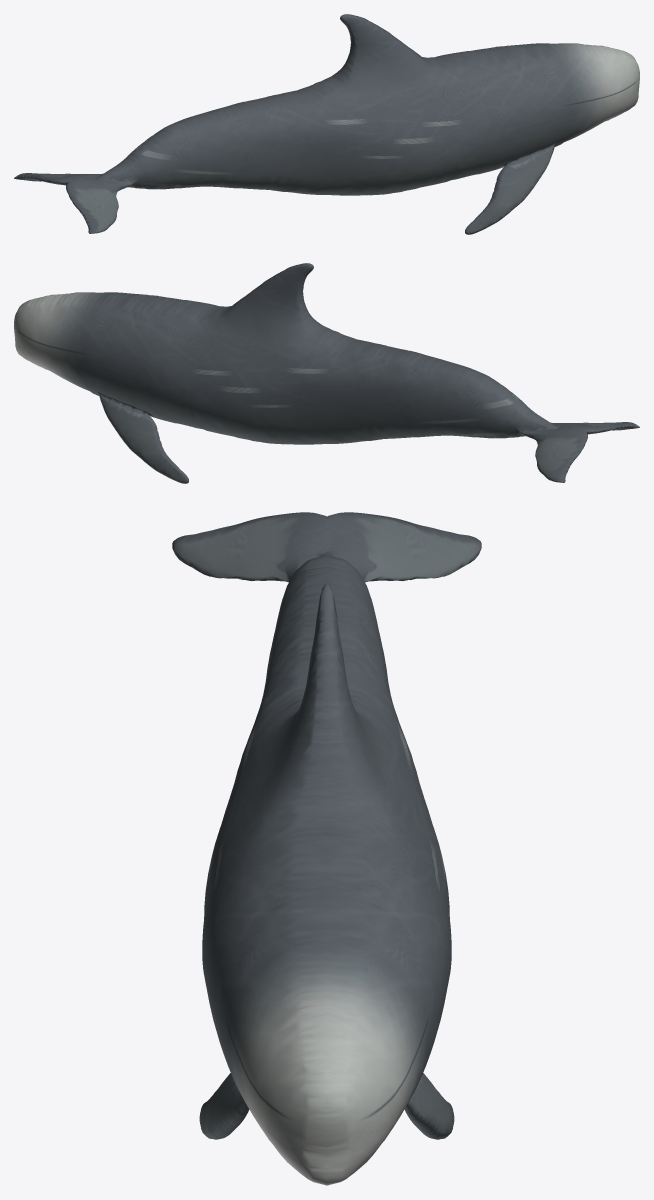
The model's file is model-cetacean-grampus-griseus-v0677.glb.
3 renders of one model, top to bottom at view 1: azimuth 30°, elevation 25°; view 2: azimuth 150°, elevation 25°; view 3: azimuth 270°, elevation 25°, orthographic. The views are drawn at different scales.
Parts seen in each view (by area): view 1: grampus-griseus source-derived exterior; view 2: grampus-griseus source-derived exterior; view 3: grampus-griseus source-derived exterior.
Boxes of the visible parts, x1=… form: grampus-griseus source-derived exterior: x1=14, y1=14, x2=639, y2=234; grampus-griseus source-derived exterior: x1=14, y1=263, x2=639, y2=483; grampus-griseus source-derived exterior: x1=172, y1=512, x2=481, y2=1185.
Bounding box in the file's own units: 3.85 × 1.39 × 0.8796.
Materials: 1 (1 with a texture image).
